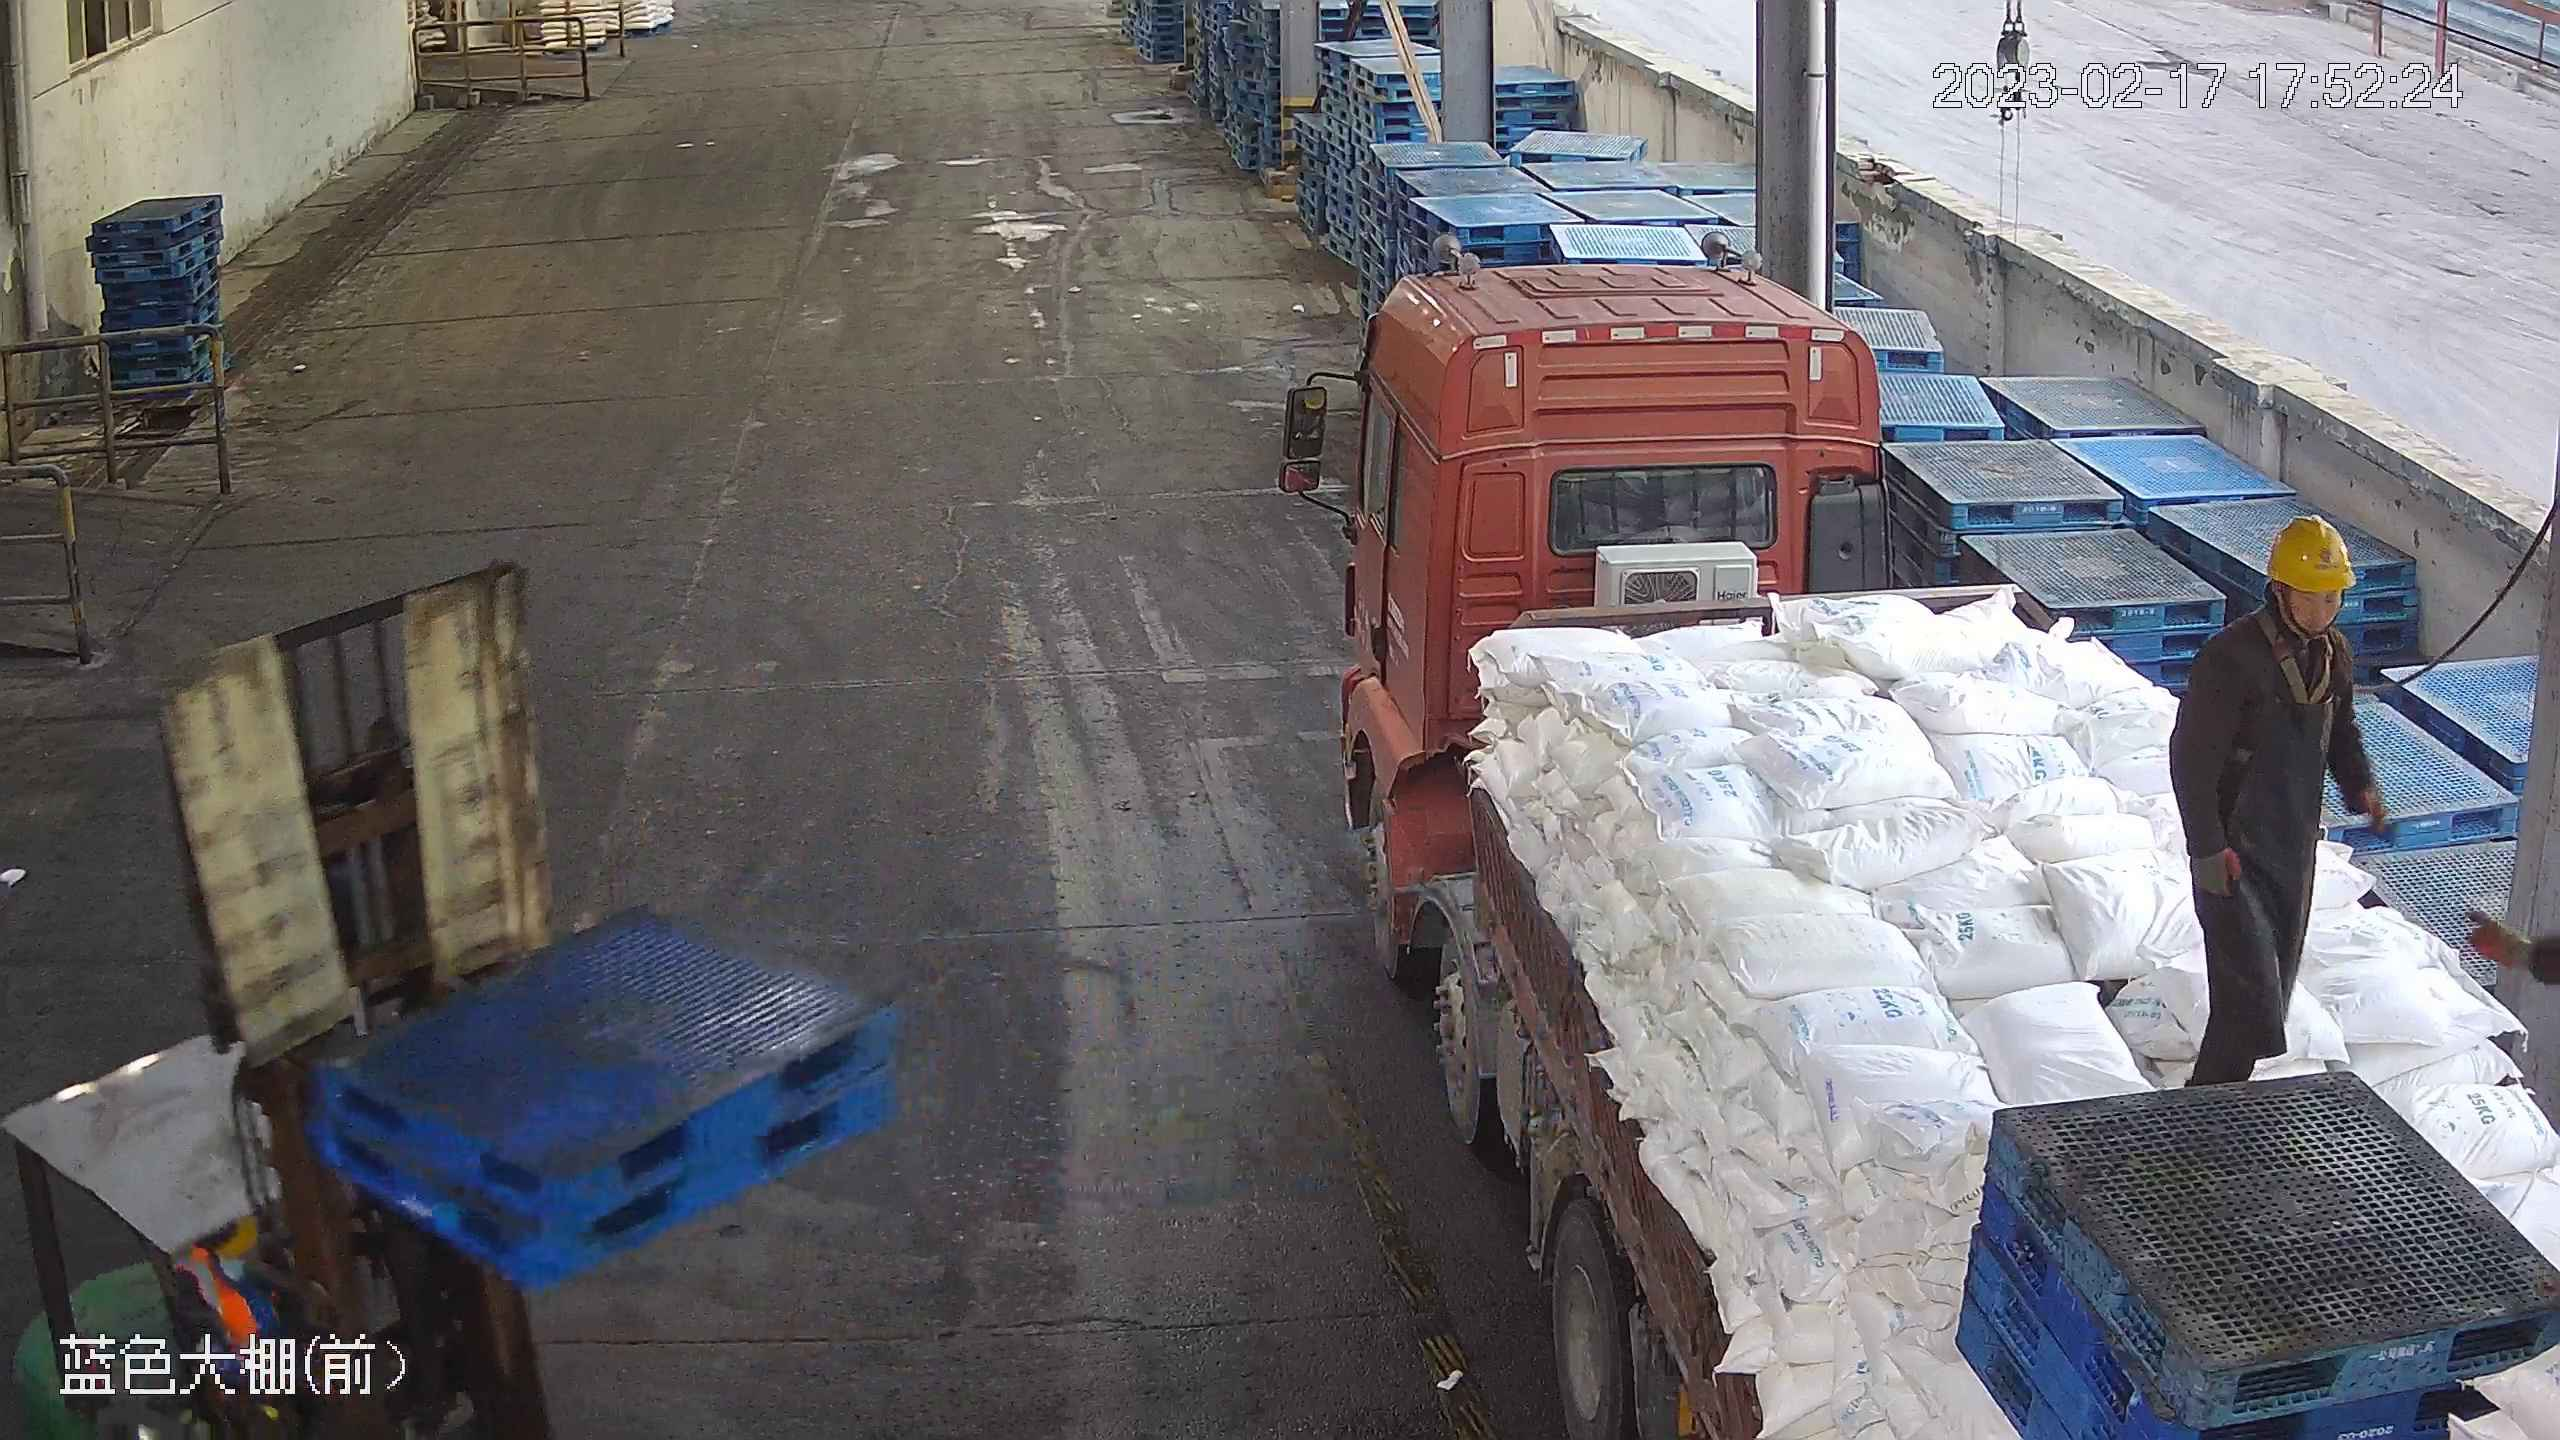belt: (2239, 613, 2355, 711)
head: (2183, 511, 2362, 704)
helmet: (2261, 510, 2355, 591)
people: (2168, 510, 2391, 1086)
truck: (1275, 233, 2556, 1440)
